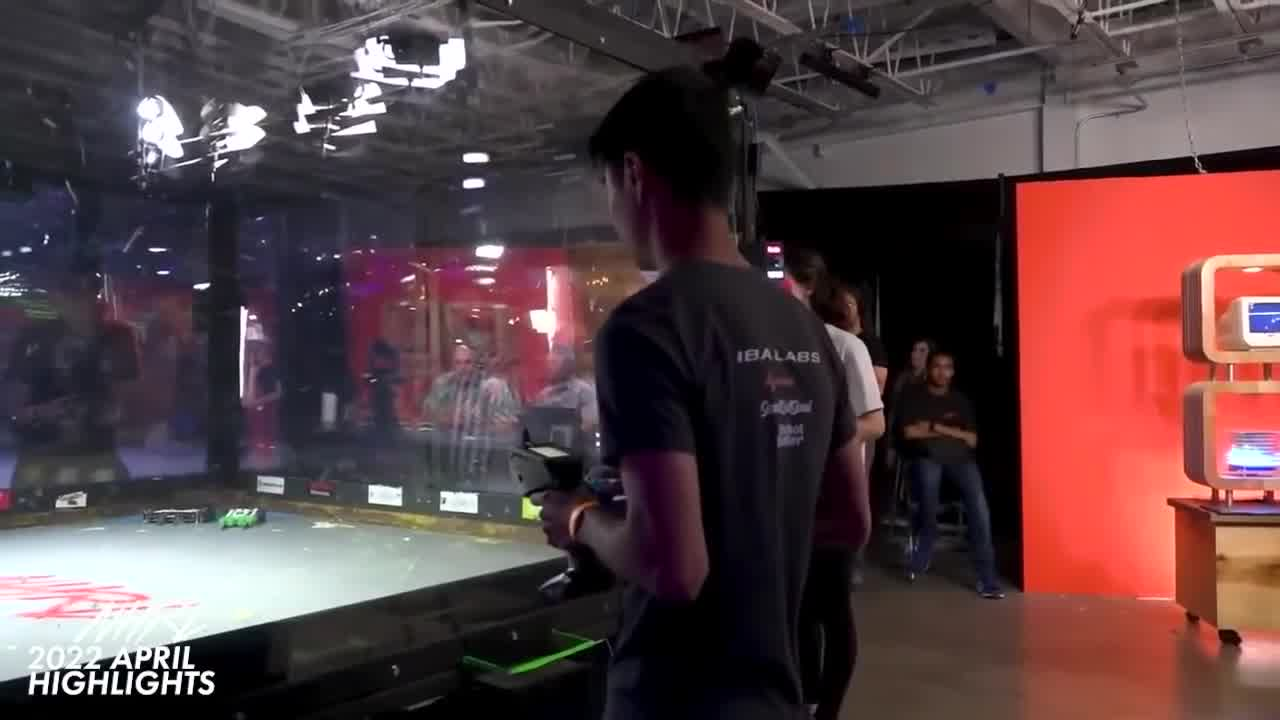combatbot: (1175, 385, 1280, 530), (141, 500, 207, 531), (203, 503, 268, 530)
